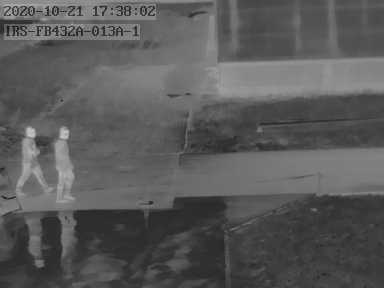person: (14, 126, 50, 194), (49, 125, 79, 202)
